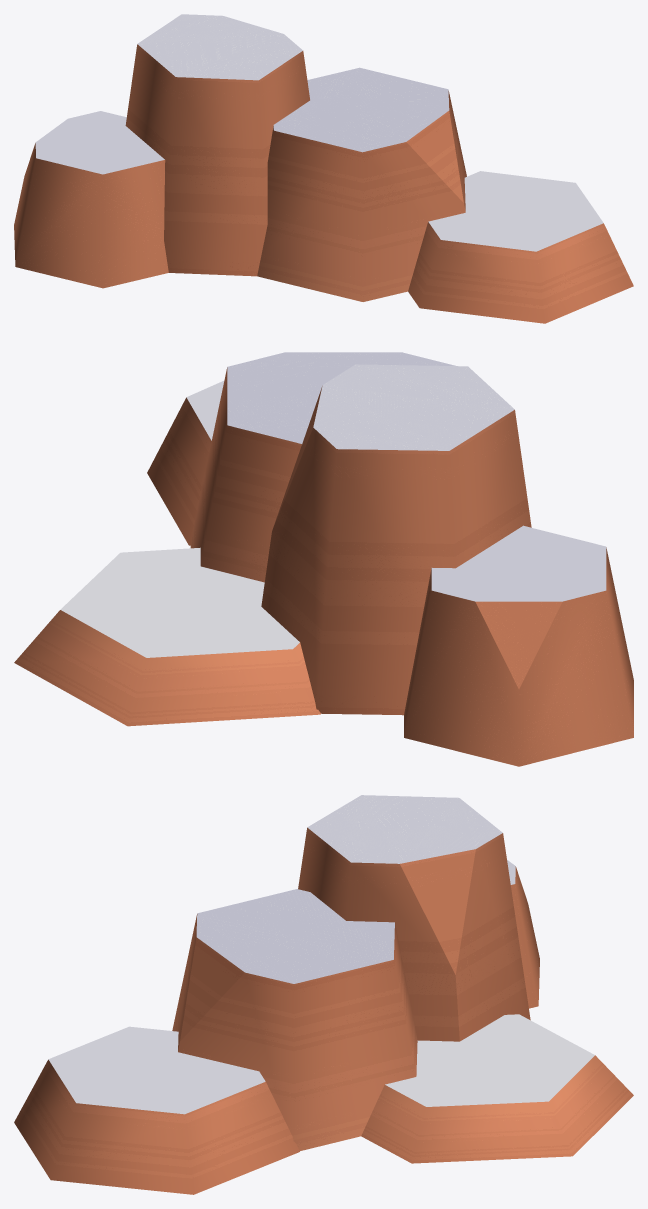
The model's file is snow-detail-dirt.glb.
3 renders of one model, top to bottom at view 1: azimuth 30°, elevation 25°; view 2: azimuth 150°, elevation 25°; view 3: azimuth 270°, elevation 25°, orthographic. The views are drawn at different scales.
Visible parts, largest first — view 1: snow-detail-dirt; view 2: snow-detail-dirt; view 3: snow-detail-dirt.
Part boxes in pixels (x1,y1,x2,y2): snow-detail-dirt: [14, 14, 633, 323]; snow-detail-dirt: [14, 352, 633, 766]; snow-detail-dirt: [14, 795, 633, 1194].
Size of the model in its own units: 2.11 by 0.7959 by 2.14.
Materials: 1 (1 with a texture image).
